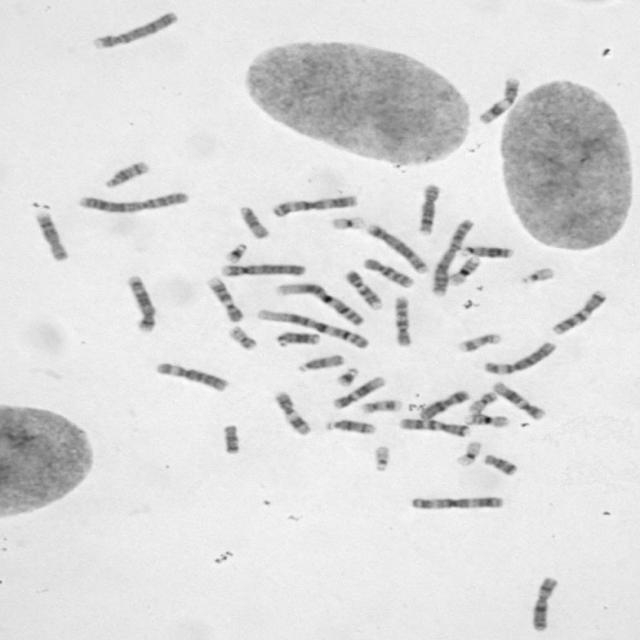A1: (253, 306, 371, 350), (272, 280, 366, 327)
A2: (428, 217, 476, 297), (73, 188, 191, 215)
A3: (268, 192, 359, 218), (406, 493, 506, 512)
B4: (88, 8, 180, 51), (217, 261, 307, 278)
B5: (363, 221, 430, 275), (124, 272, 158, 334)
C10: (360, 255, 416, 289), (390, 293, 414, 348)
C11: (475, 74, 522, 125), (272, 388, 313, 437)
C12: (489, 379, 547, 421), (329, 374, 387, 409)
C6: (480, 338, 557, 376), (150, 359, 231, 394)
C7: (548, 288, 608, 336), (395, 414, 471, 438)
C8: (33, 208, 70, 262), (414, 181, 442, 236)
C9: (204, 274, 245, 323), (342, 268, 385, 310)
D13: (272, 329, 321, 348), (457, 243, 514, 259)
D14: (100, 158, 150, 190), (323, 417, 377, 435)
D15: (236, 203, 272, 240), (294, 352, 346, 374)
E16: (446, 254, 482, 286), (460, 411, 511, 428)
E17: (455, 331, 503, 354), (358, 397, 404, 415)
E18: (480, 451, 519, 477), (218, 421, 242, 456)
F19: (452, 438, 483, 468), (328, 212, 368, 232)
F20: (226, 323, 260, 351), (464, 390, 499, 414)
G21: (332, 364, 360, 388), (222, 240, 248, 264)
G22: (516, 264, 556, 285), (370, 442, 392, 473)
X: (527, 573, 561, 632), (416, 387, 471, 421)
